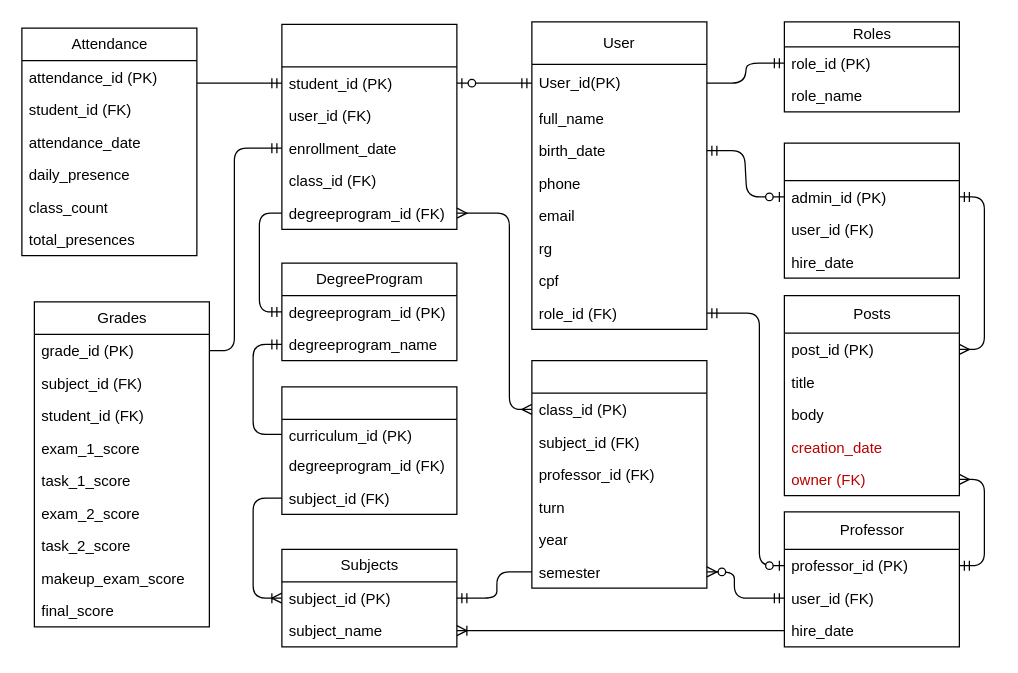
Some shapes in this 1018 by 673 pixel diagram are drawn without their labels. The shapes that lost their labels are listed below. From the top down, each one's box as (x1, y1, x2, y2) in pixels, then its label:
(281, 23, 457, 229): Students
(783, 142, 959, 278): Administration
(281, 386, 457, 514): AcademicCurriculum
(531, 359, 707, 588): Classes
